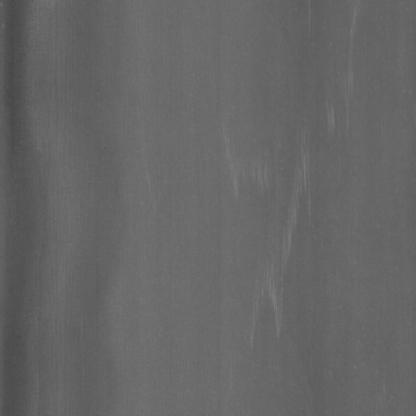silk_spot: (210, 62, 364, 343)
